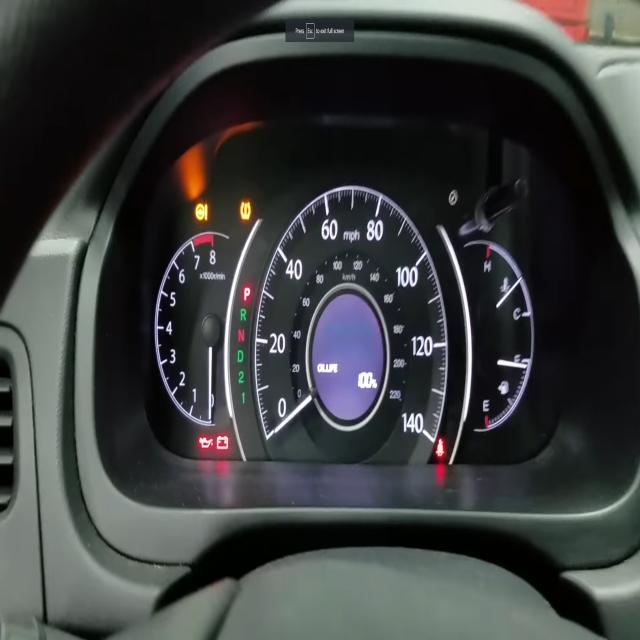Charging System Issue: (216, 435, 229, 450)
Low Engine Oil Warning Light: (199, 435, 213, 449)
Low Tire Pressure Warning Light: (240, 199, 252, 221)
